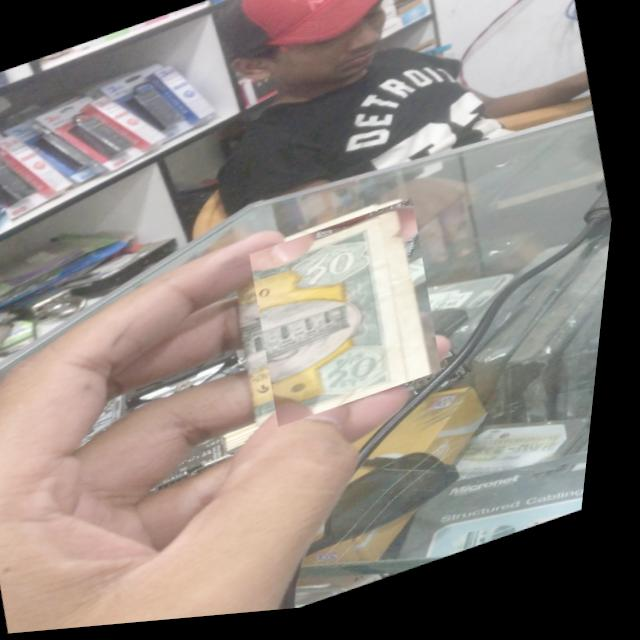Taka: (241, 202, 464, 436)
